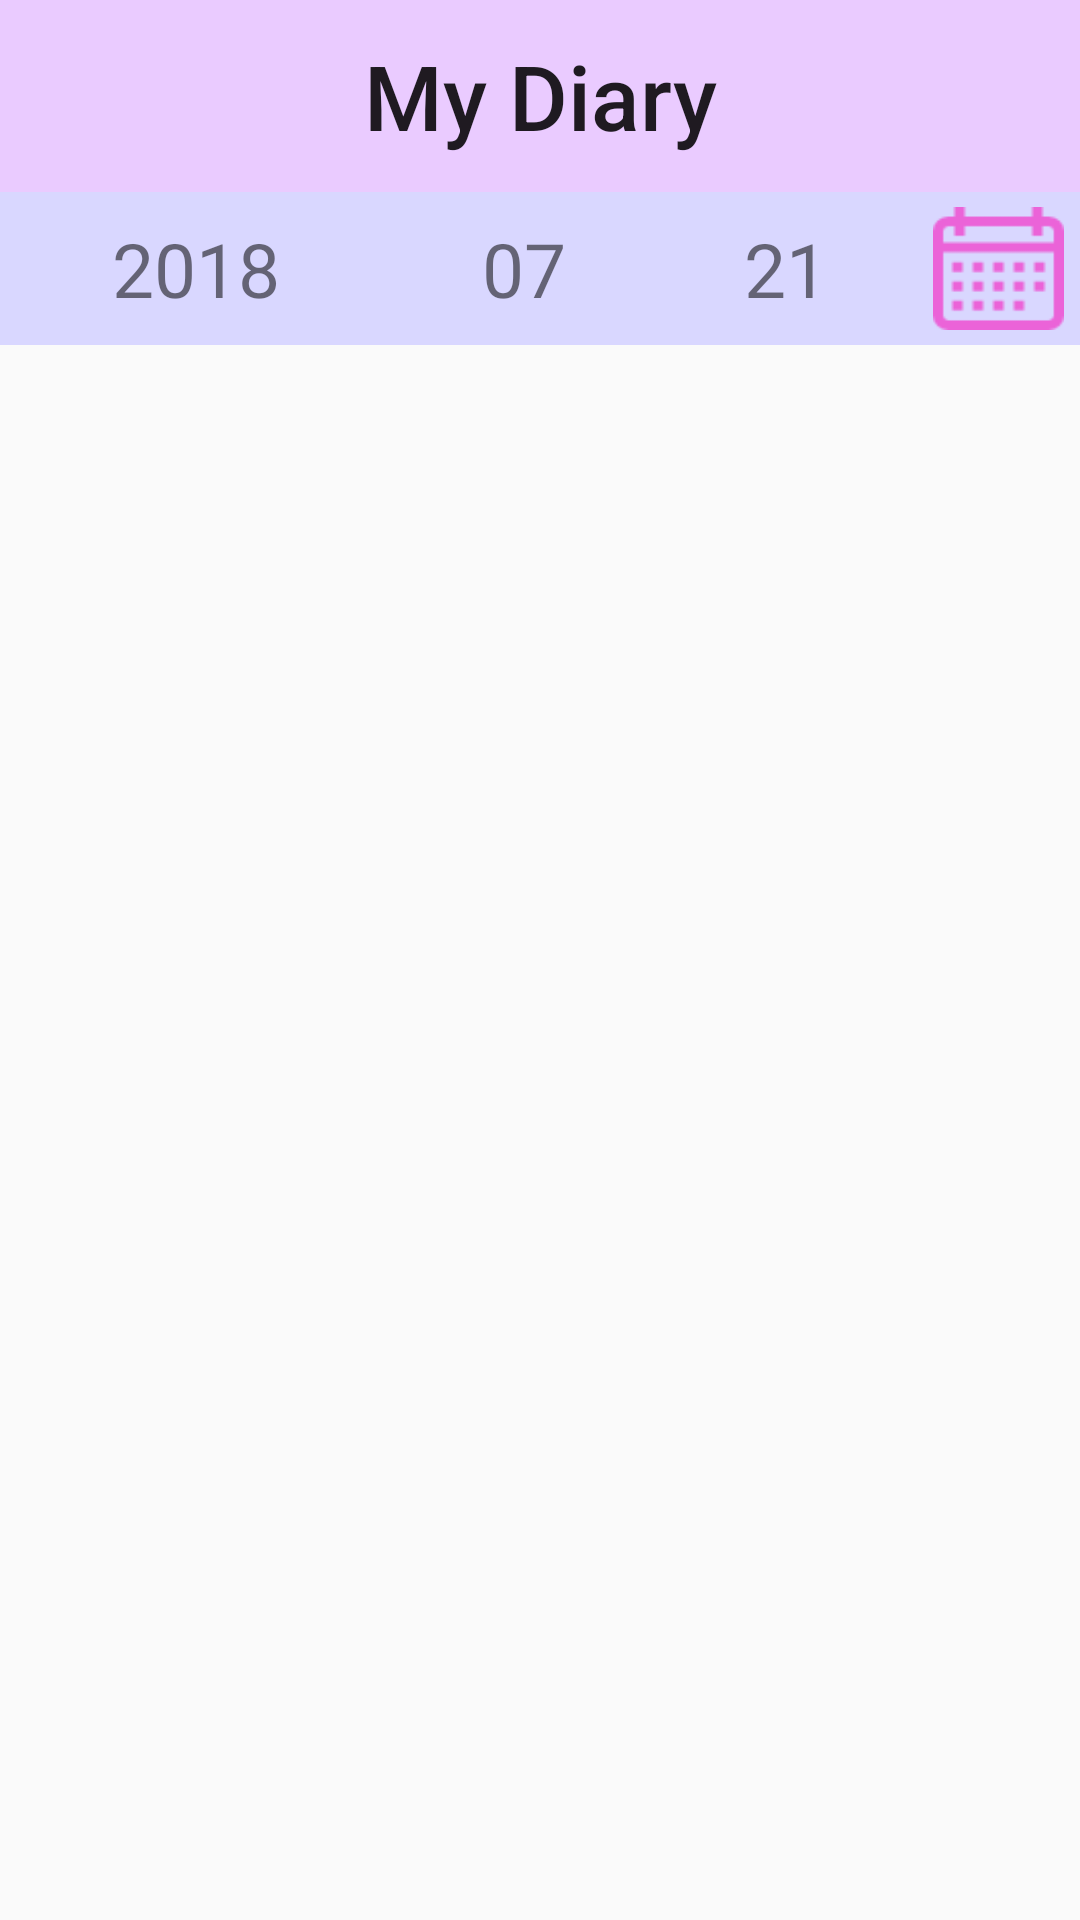

Icons on this 1080×1920 Android screen, each with the point to tap as (x=x, y=y):
calendar: (x=998, y=268)
